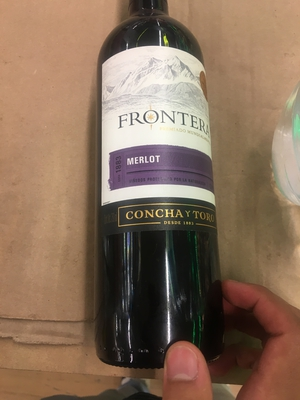frontera merlot: (92, 1, 250, 385)
